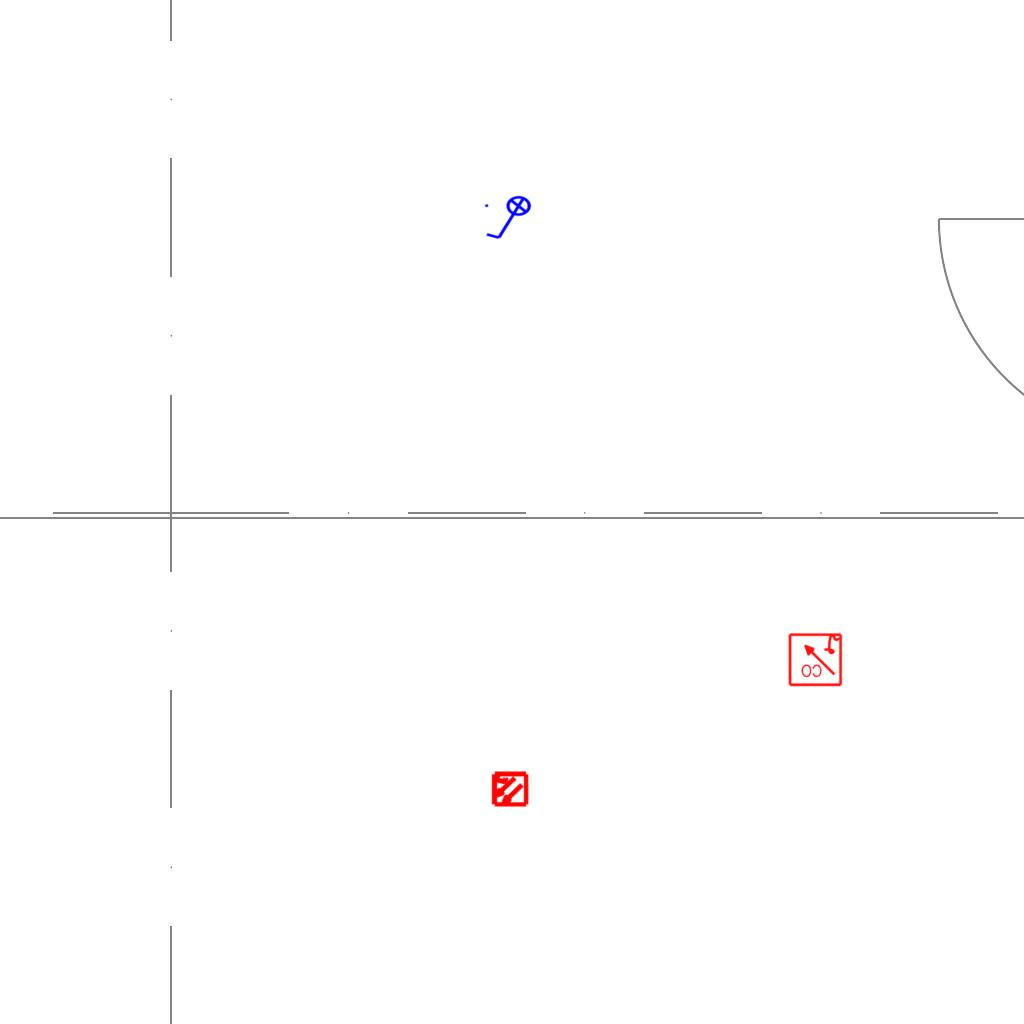Ausschalter_beleuchtet: (482, 195, 538, 243)
OT_Multisensormelder_(Kombination_RMO_WMD): (481, 761, 537, 817)
ROA_Rauchmelder_optisch_mit_Signalgeber_(Sockelsirene): (787, 631, 843, 687)
